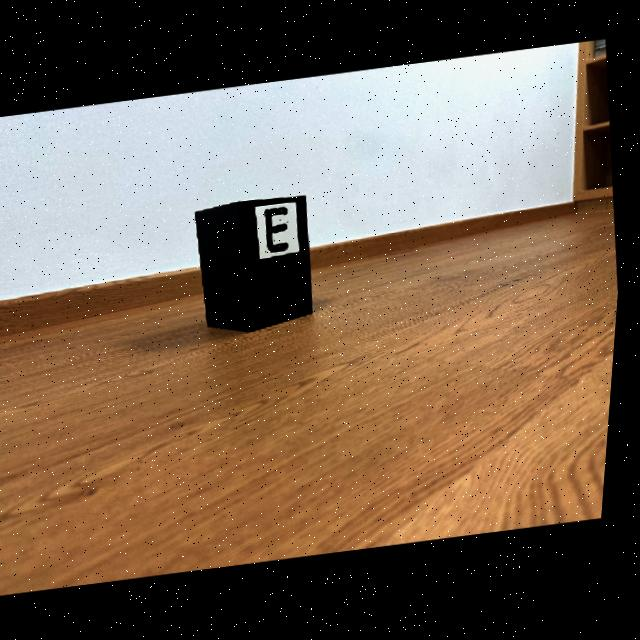E: (267, 207, 292, 252)
